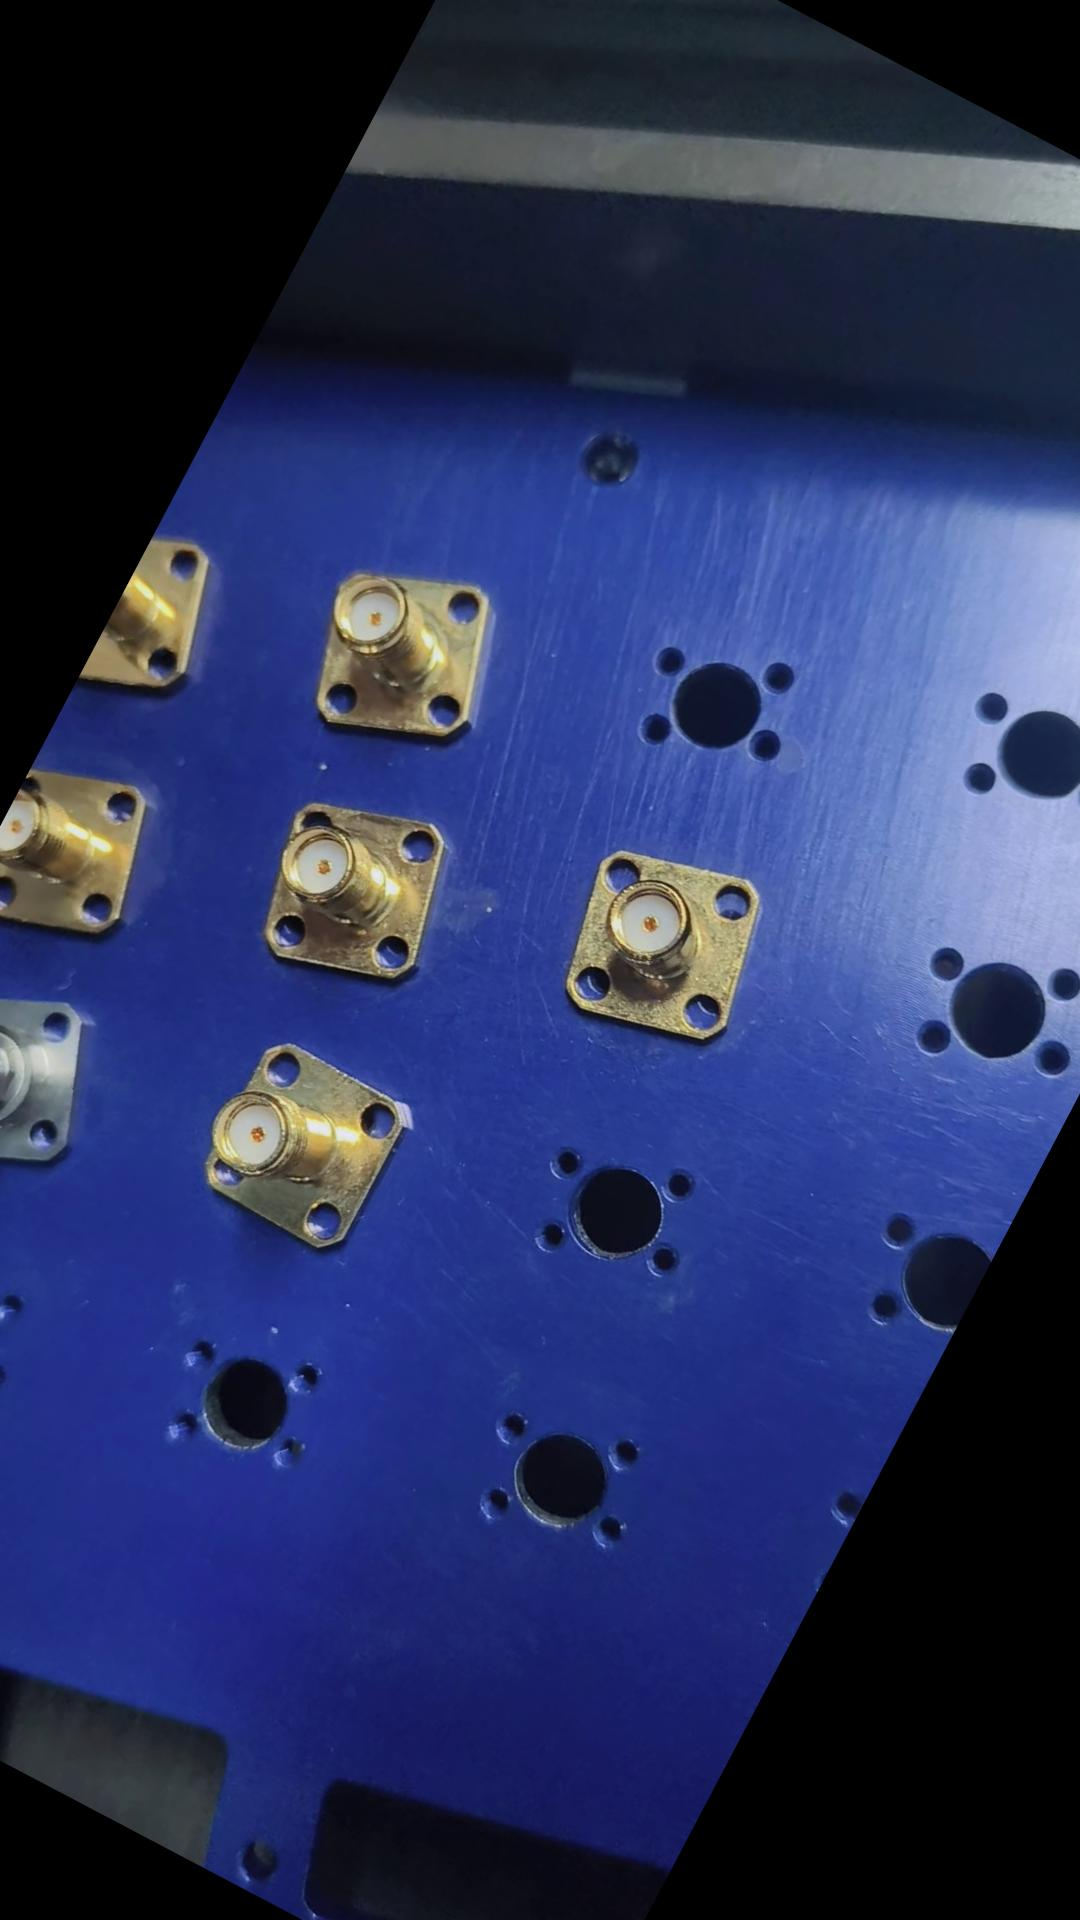SMA: (280, 529, 538, 800), (538, 814, 794, 1076), (235, 757, 485, 1021), (187, 1026, 433, 1270)
